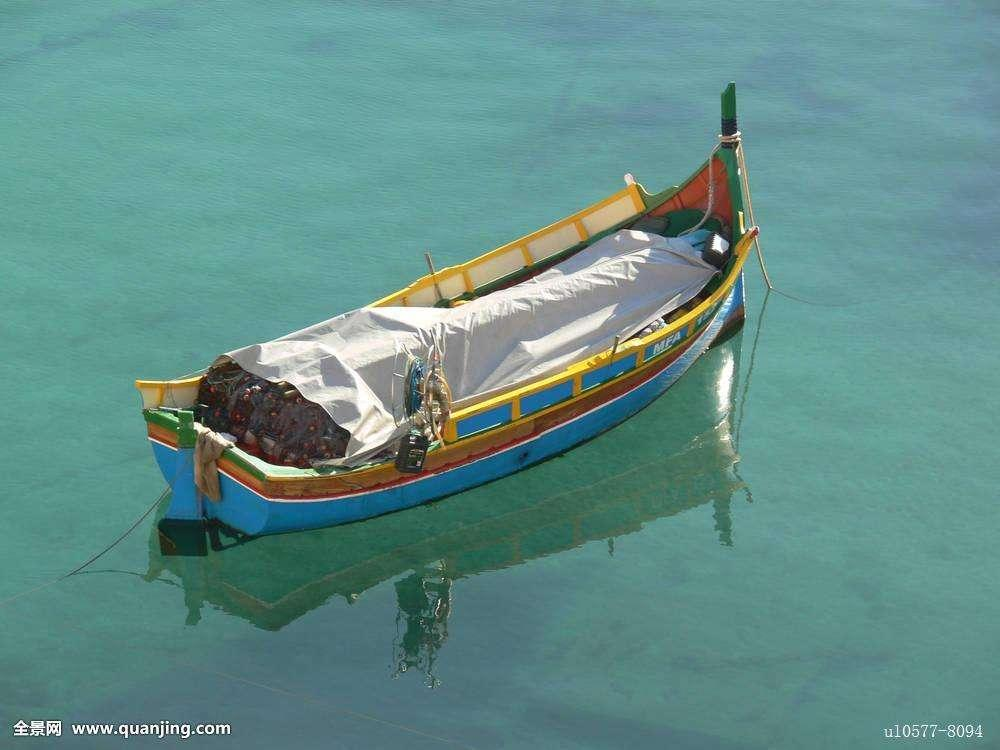otherboat: (129, 83, 762, 545)
